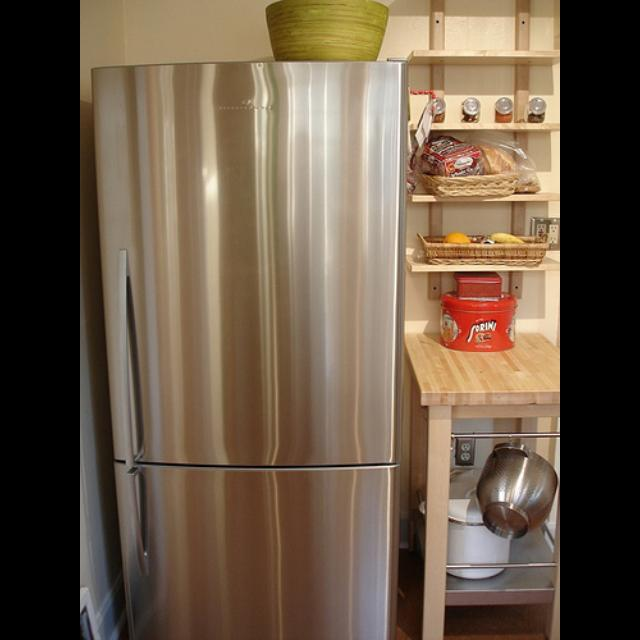Refrigerator: (92, 63, 406, 633)
